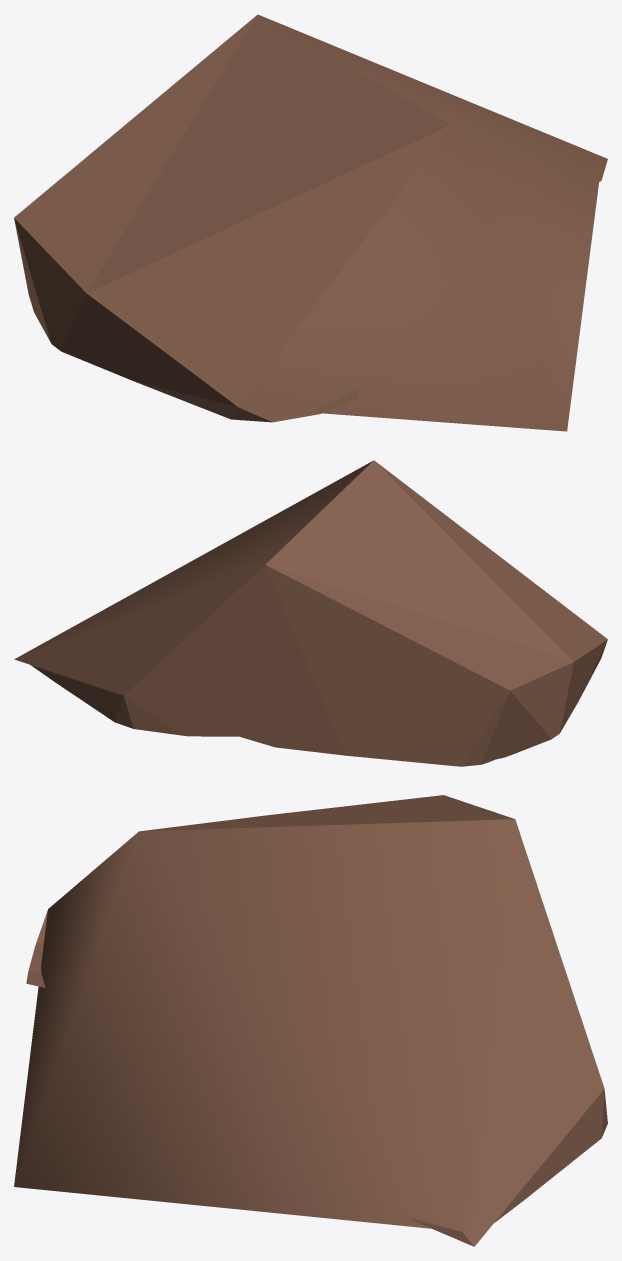
The model's file is Cliff.fbx.
3 renders of one model, top to bottom at view 1: azimuth 30°, elevation 25°; view 2: azimuth 150°, elevation 25°; view 3: azimuth 270°, elevation 25°, orthographic. The views are drawn at different scales.
Visible parts, largest first — view 1: Cliff; view 2: Cliff; view 3: Cliff.
Part boxes in pixels (x1,y1,x2,y2): Cliff: [14, 14, 607, 431]; Cliff: [14, 460, 607, 766]; Cliff: [14, 795, 607, 1246].
Bounding box in the file's own units: 588 × 257 × 431.
